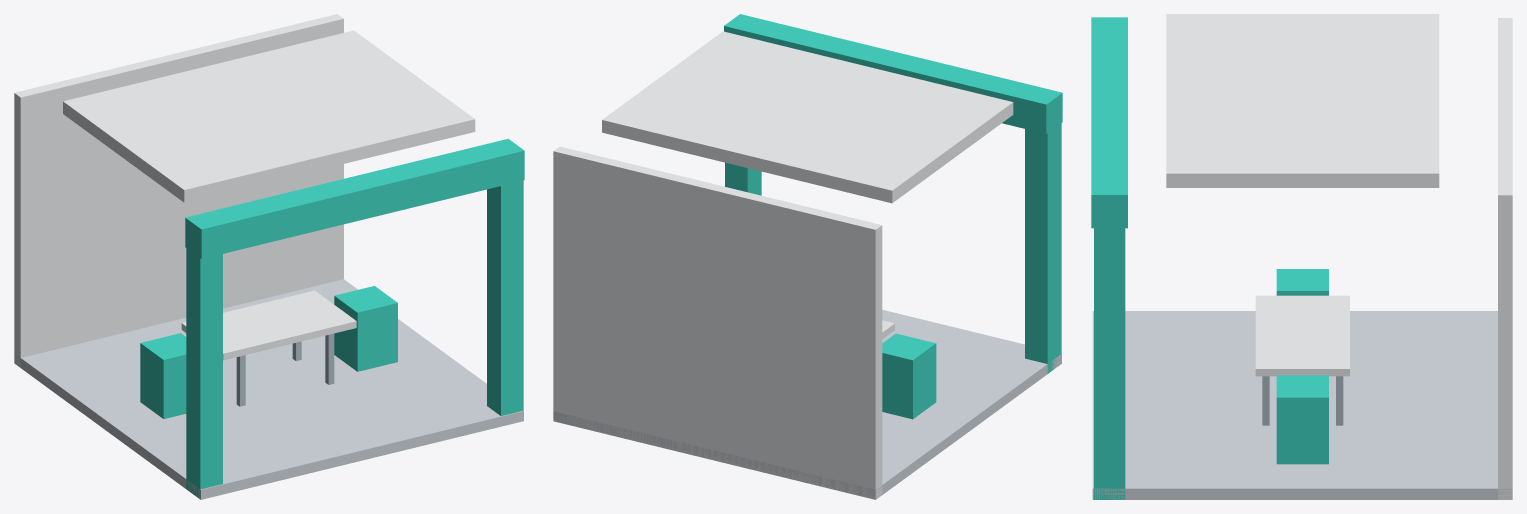
3 views of the same model, side by side, from view 1: azimuth 30°, elevation 25°; view 2: azimuth 150°, elevation 25°; view 3: azimuth 270°, elevation 25° (orthographic). The views are drawn at different scales.
Parts seen in each view (by area): view 1: Exhibition Booth Concept; view 2: Exhibition Booth Concept; view 3: Exhibition Booth Concept.
Boxes of the visible parts, bbox=[...] form: Exhibition Booth Concept: bbox=[14, 14, 524, 499]; Exhibition Booth Concept: bbox=[553, 14, 1062, 499]; Exhibition Booth Concept: bbox=[1091, 14, 1512, 499].
Bounding box in the file's own units: 4 × 3.34 × 4.02.
